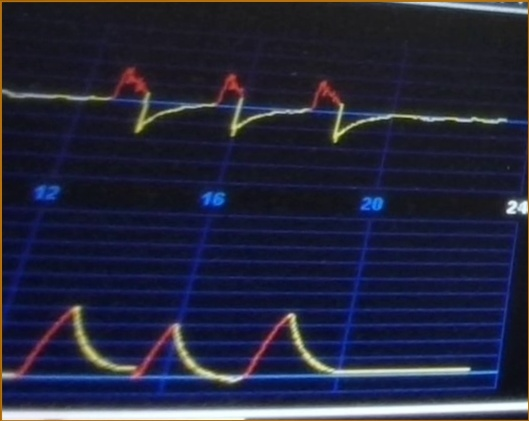Accumulation Flow: (3, 53, 458, 157)
Volume: (4, 295, 410, 397)
